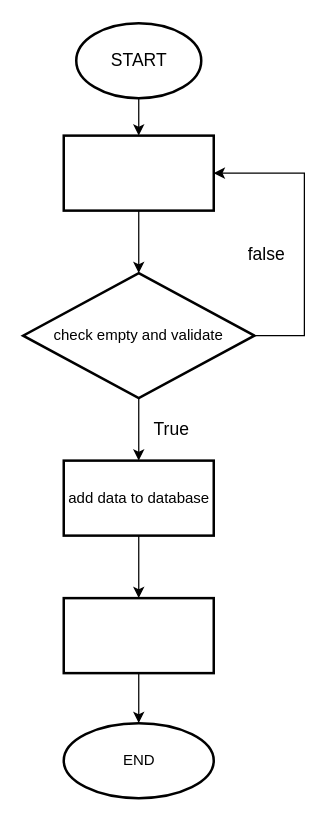
The diagram is 336 pixels wide and 820 high, and some of its shapes have lost their labels. Each missing label, with the centre of its shape:
display " Add data success ": the point at 138,635
input data: the point at 138,172
